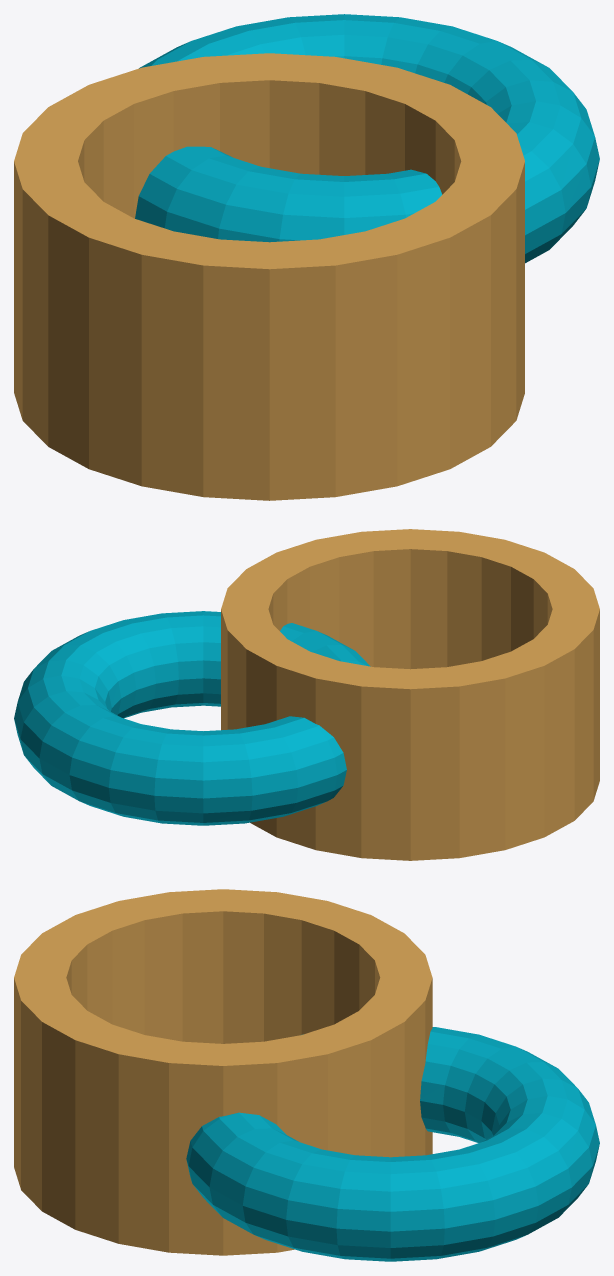
File: Smashing Sango-Snaget.glb
3 renders of one model, top to bottom at view 1: azimuth 30°, elevation 25°; view 2: azimuth 150°, elevation 25°; view 3: azimuth 270°, elevation 25°, orthographic. The views are drawn at different scales.
Parts seen in each view (by area): view 1: Mesh_Mesh_head_geo.001_lambert2SG.001; view 2: Mesh_Mesh_head_geo.001_lambert2SG.001; view 3: Mesh_Mesh_head_geo.001_lambert2SG.001.
Part boxes in pixels (box(x1,y1,x2,y2)): Mesh_Mesh_head_geo.001_lambert2SG.001: box(14, 14, 599, 500); Mesh_Mesh_head_geo.001_lambert2SG.001: box(14, 529, 599, 860); Mesh_Mesh_head_geo.001_lambert2SG.001: box(14, 889, 599, 1261).
Size of the model in its own units: 28 by 10 by 28.
